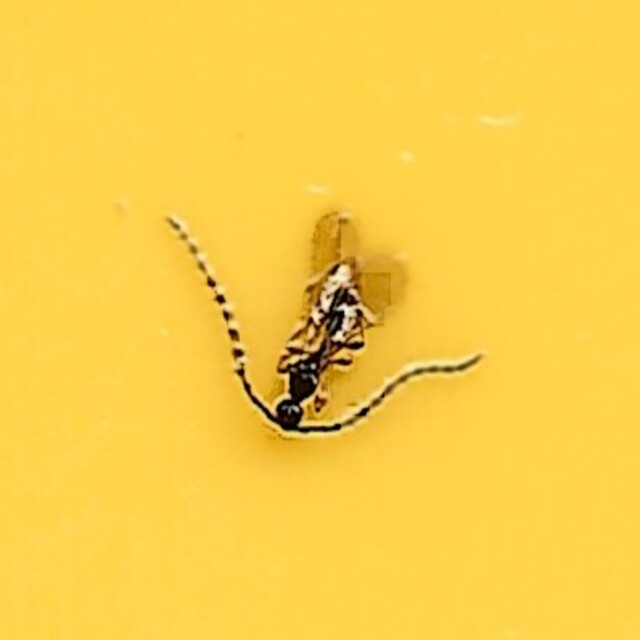Hymenoptera: (161, 202, 479, 438)
